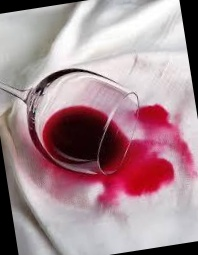wine: (42, 130, 177, 206), (130, 98, 193, 188)
